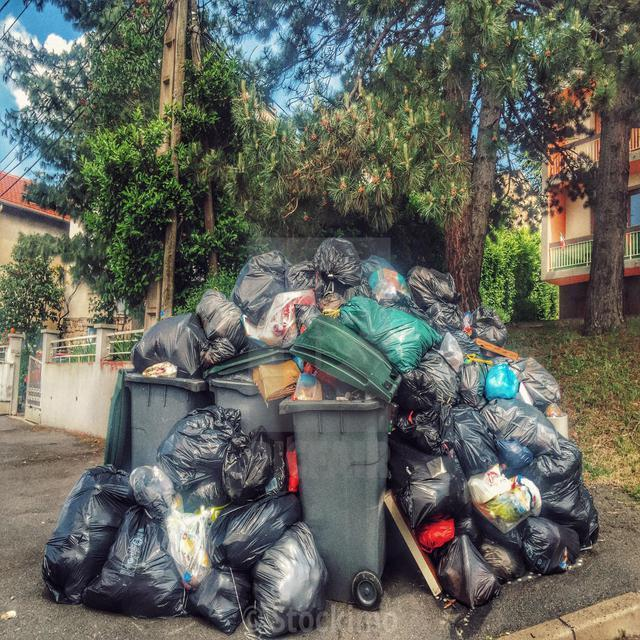garbage: (37, 237, 616, 638)
